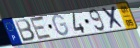4: (72, 11, 86, 34)
9: (89, 9, 106, 31)
B: (13, 18, 36, 43)
E: (29, 15, 54, 41)
G: (52, 14, 71, 36)
X: (101, 5, 126, 31)
